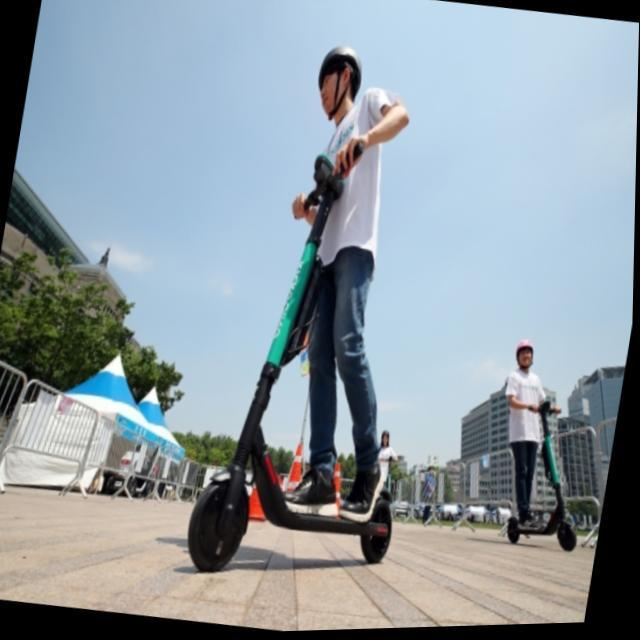Helmet: (312, 33, 368, 123)
